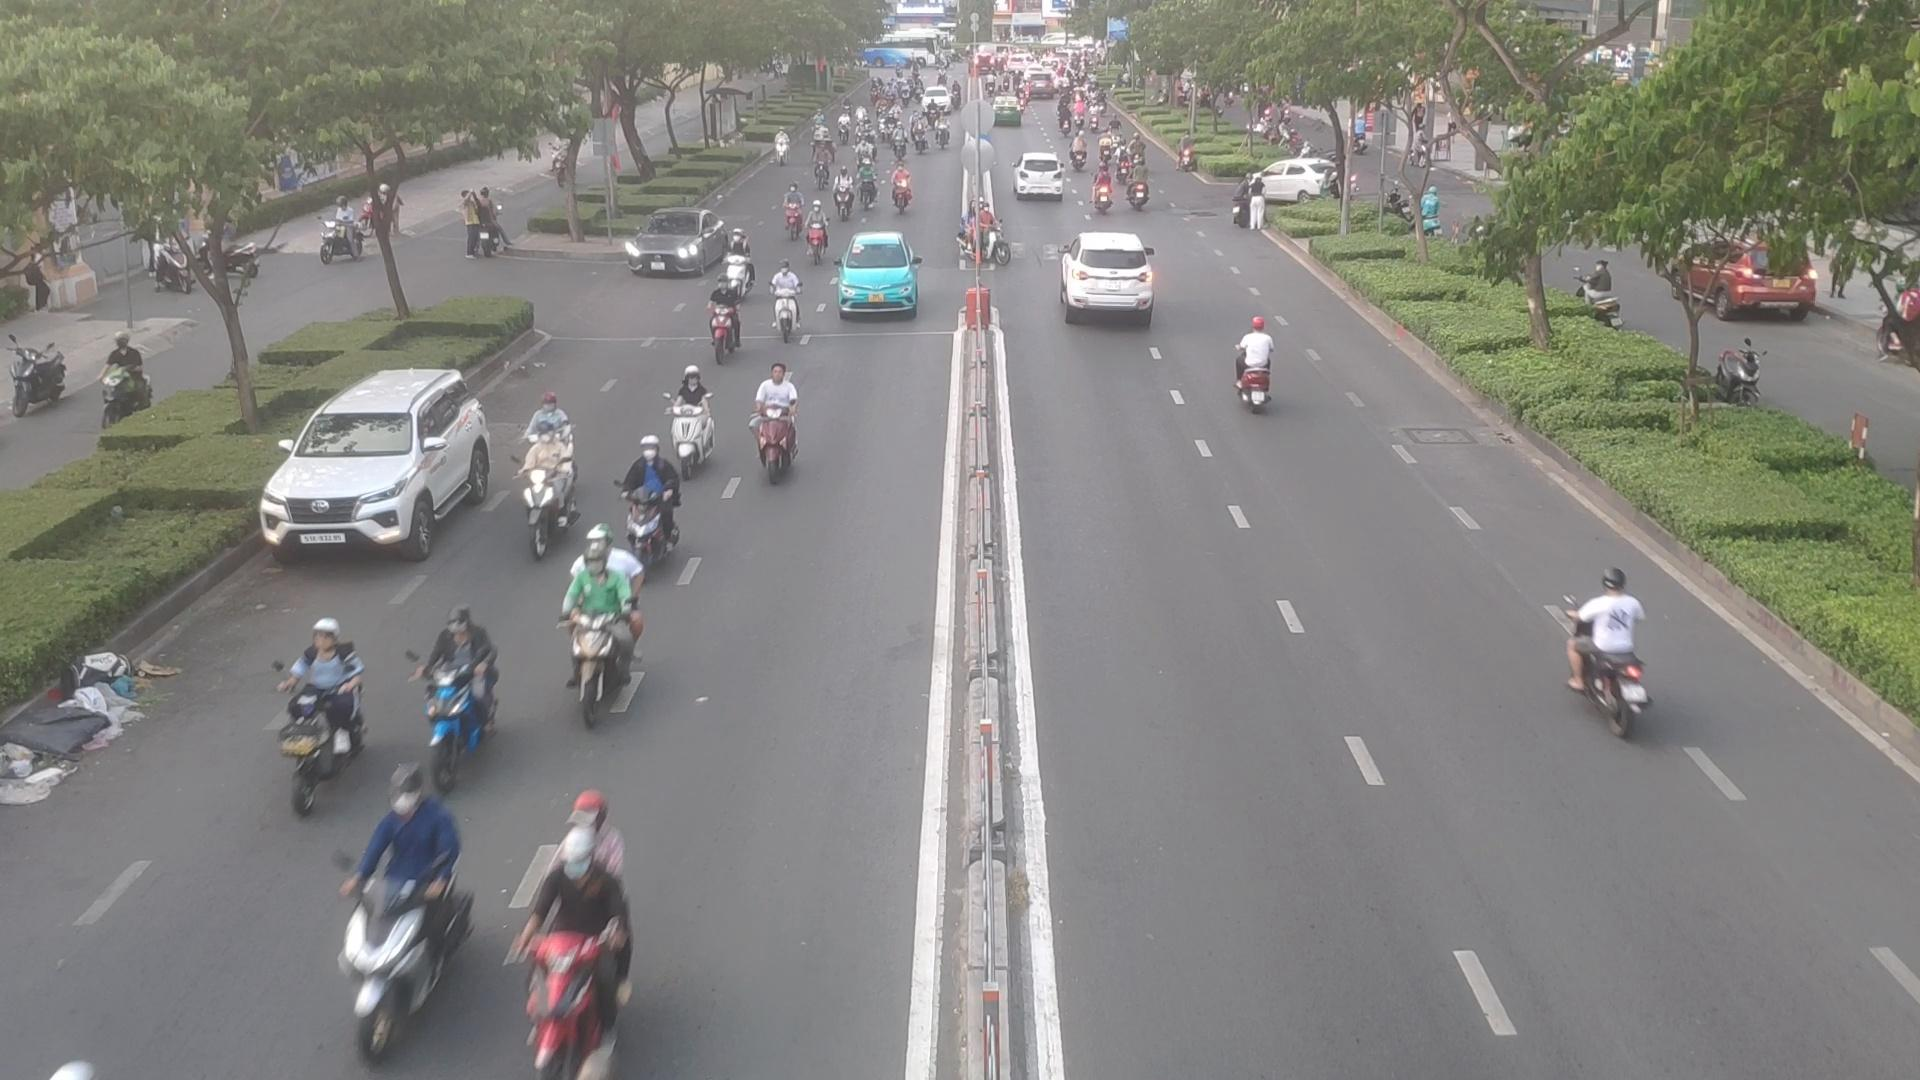car: (261, 369, 497, 567), (1060, 231, 1156, 323), (628, 210, 741, 280), (829, 233, 920, 316), (1246, 160, 1342, 208), (1013, 153, 1069, 200)
motorbike: (327, 789, 458, 1044), (542, 818, 644, 1059), (562, 535, 647, 720), (1571, 564, 1648, 748), (276, 612, 369, 764), (414, 622, 506, 771), (509, 410, 563, 555), (742, 369, 796, 487), (630, 440, 684, 550), (670, 372, 717, 473), (1233, 319, 1283, 402), (764, 261, 808, 338), (704, 276, 736, 360), (971, 202, 1007, 266), (731, 229, 756, 291), (829, 161, 852, 223), (810, 144, 835, 191), (1091, 165, 1116, 210), (891, 162, 913, 215), (811, 199, 828, 261), (856, 162, 874, 219), (786, 177, 804, 229), (770, 129, 793, 165), (1131, 162, 1147, 211), (1116, 149, 1131, 181), (858, 140, 872, 161)
